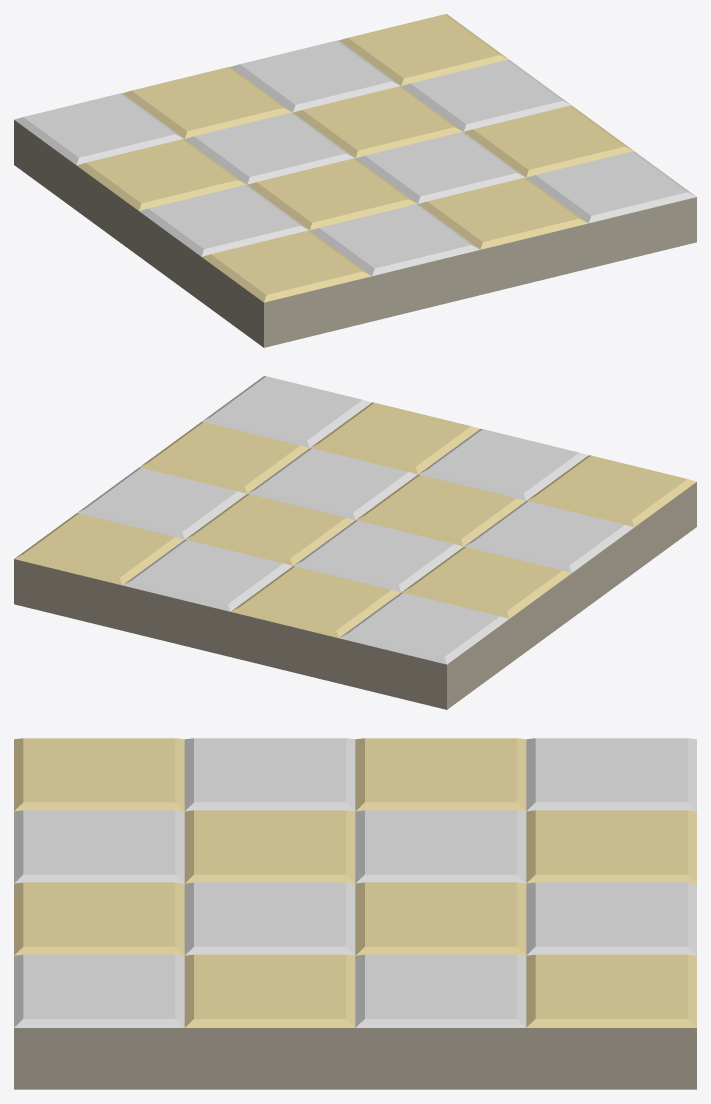
The model's file is Mesh_GroundCeramic_J2.fbx.
3 renders of one model, top to bottom at view 1: azimuth 30°, elevation 25°; view 2: azimuth 150°, elevation 25°; view 3: azimuth 270°, elevation 25°, orthographic. The views are drawn at different scales.
Visible parts, largest first — view 1: Mesh_GroundCeramic_J2; view 2: Mesh_GroundCeramic_J2; view 3: Mesh_GroundCeramic_J2.
Part boxes in pixels (bbox=[...]): Mesh_GroundCeramic_J2: bbox=[14, 14, 696, 347]; Mesh_GroundCeramic_J2: bbox=[14, 376, 696, 709]; Mesh_GroundCeramic_J2: bbox=[14, 738, 696, 1089].
Bounding box in the file's own units: 1 × 0.1082 × 1.
